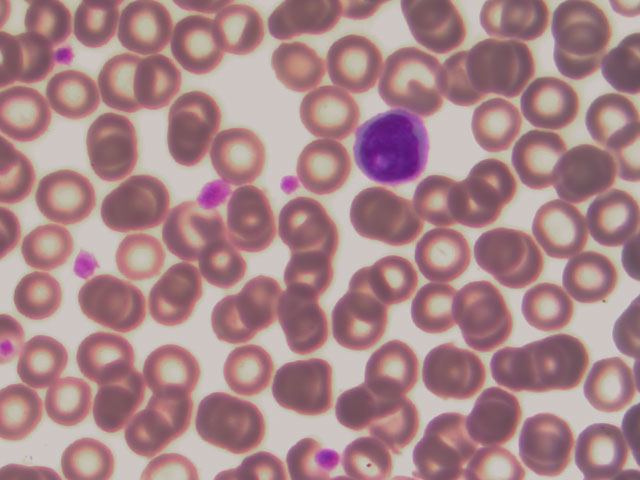Platelets: (69, 248, 102, 282), (198, 178, 233, 210), (52, 41, 80, 70), (313, 443, 341, 472), (273, 170, 299, 198)
RBC: (134, 57, 185, 112), (99, 52, 150, 107), (47, 69, 98, 124), (1, 84, 52, 139), (86, 107, 137, 162), (83, 133, 134, 188), (38, 172, 89, 227), (22, 217, 73, 272), (11, 270, 62, 325), (77, 276, 128, 331), (115, 286, 166, 341), (86, 328, 137, 383), (27, 334, 78, 389), (43, 377, 94, 432), (88, 385, 139, 440), (98, 355, 149, 410), (150, 340, 201, 395), (150, 371, 201, 426), (123, 406, 174, 461), (61, 425, 112, 480), (191, 387, 242, 442), (224, 405, 275, 460), (229, 344, 280, 399), (273, 363, 324, 418), (285, 307, 336, 362), (283, 267, 334, 322), (242, 274, 293, 329), (214, 293, 265, 348), (204, 248, 255, 303), (165, 267, 216, 322), (140, 282, 191, 337), (122, 229, 173, 284), (173, 203, 224, 258), (123, 173, 174, 228), (98, 190, 149, 245), (213, 128, 264, 183), (154, 119, 205, 174), (180, 83, 231, 138), (304, 84, 355, 139), (275, 41, 326, 96), (215, 3, 266, 58), (175, 16, 226, 71), (74, 1, 125, 56), (2, 26, 53, 81), (331, 34, 382, 89), (383, 49, 434, 104), (441, 50, 492, 105), (470, 34, 521, 89), (522, 75, 573, 130), (469, 94, 520, 149), (512, 130, 563, 185), (471, 147, 522, 202), (448, 168, 499, 223), (420, 178, 471, 233), (374, 203, 425, 258), (344, 181, 395, 236), (300, 137, 351, 192), (417, 225, 468, 280), (374, 251, 425, 306), (353, 258, 404, 313), (332, 297, 383, 352), (370, 341, 421, 396), (363, 365, 414, 420), (322, 385, 373, 440), (364, 396, 415, 451), (477, 387, 528, 442), (421, 341, 472, 396), (457, 281, 508, 336), (409, 281, 460, 336), (524, 281, 575, 336), (564, 249, 615, 304), (531, 204, 582, 259), (475, 220, 526, 275), (589, 190, 640, 245), (559, 150, 610, 205), (589, 90, 640, 145), (554, 30, 605, 85), (586, 353, 637, 408), (536, 334, 587, 389), (487, 342, 538, 397), (522, 409, 573, 464), (572, 422, 623, 477), (426, 410, 477, 465), (126, 1, 177, 55), (554, 1, 605, 55), (1, 381, 51, 436), (276, 197, 328, 245), (280, 238, 332, 286), (228, 189, 280, 237), (414, 1, 466, 48)
WBC: (355, 107, 433, 189)
